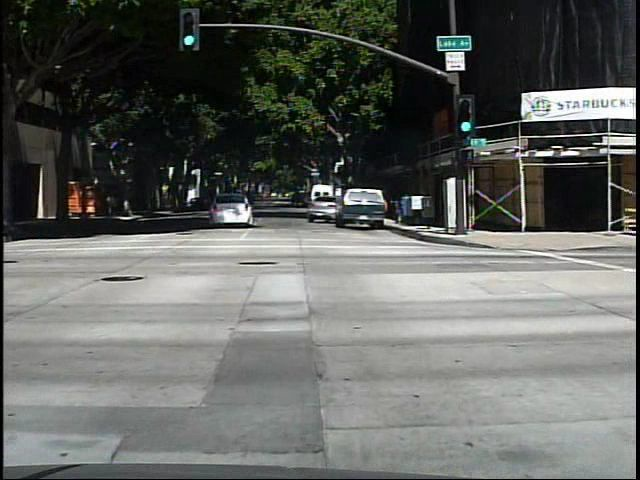person: (101, 185, 117, 220)
